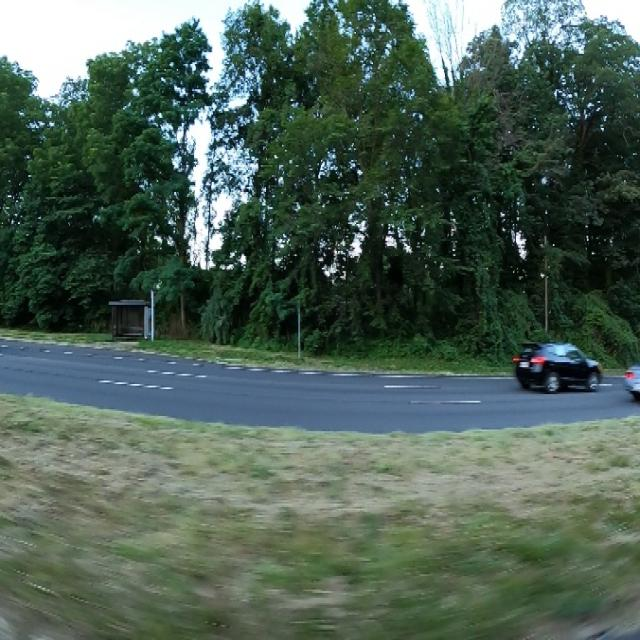cars: (512, 337, 605, 398), (624, 344, 640, 409)
